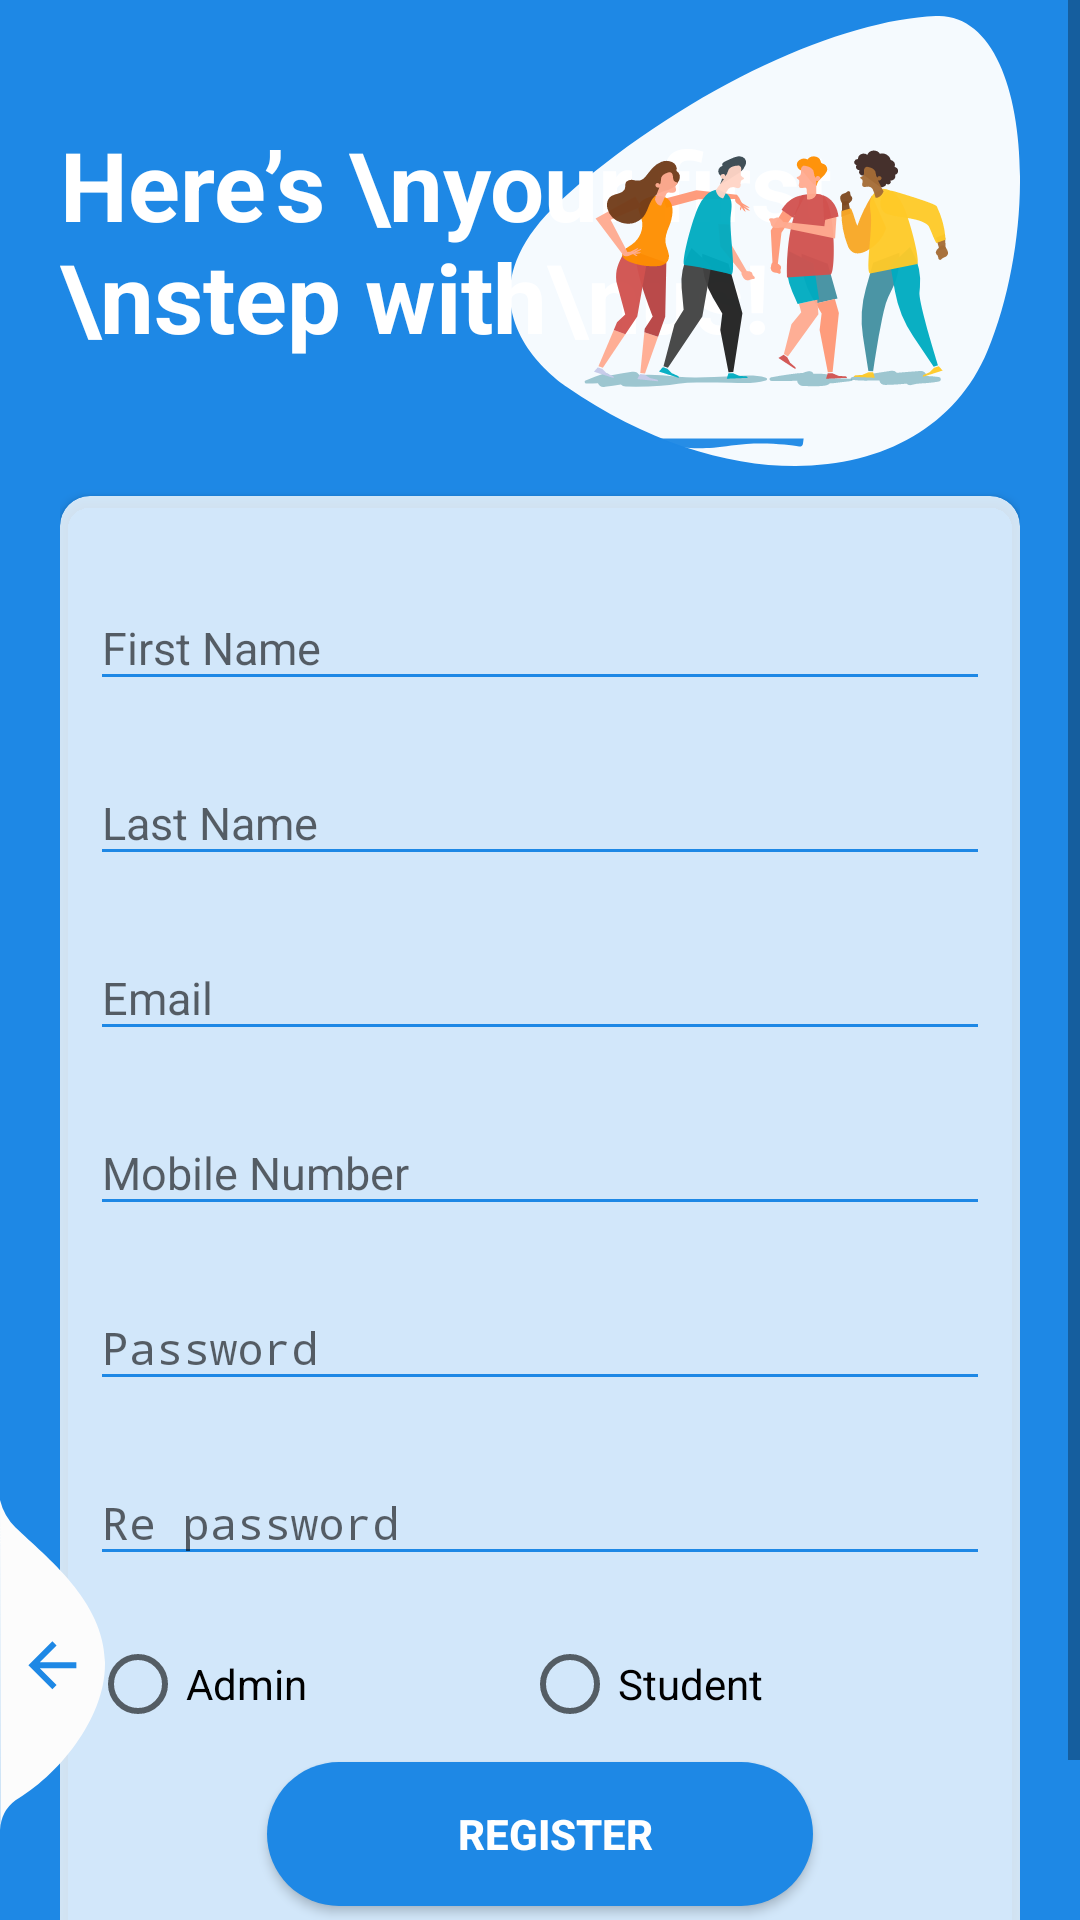

Named icons in this screenshot (1080×1920) and their centers, (x=x, y=y):
back: (x=52, y=1665)
